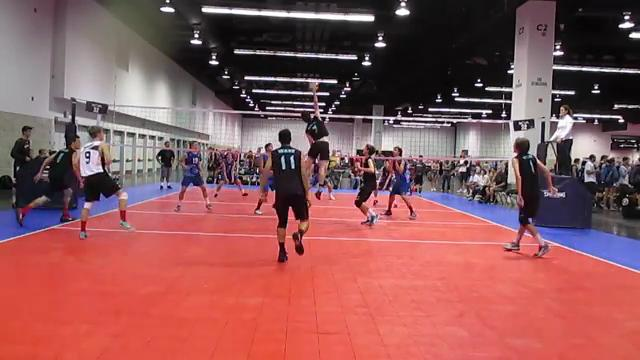attacco: (294, 80, 328, 203)
